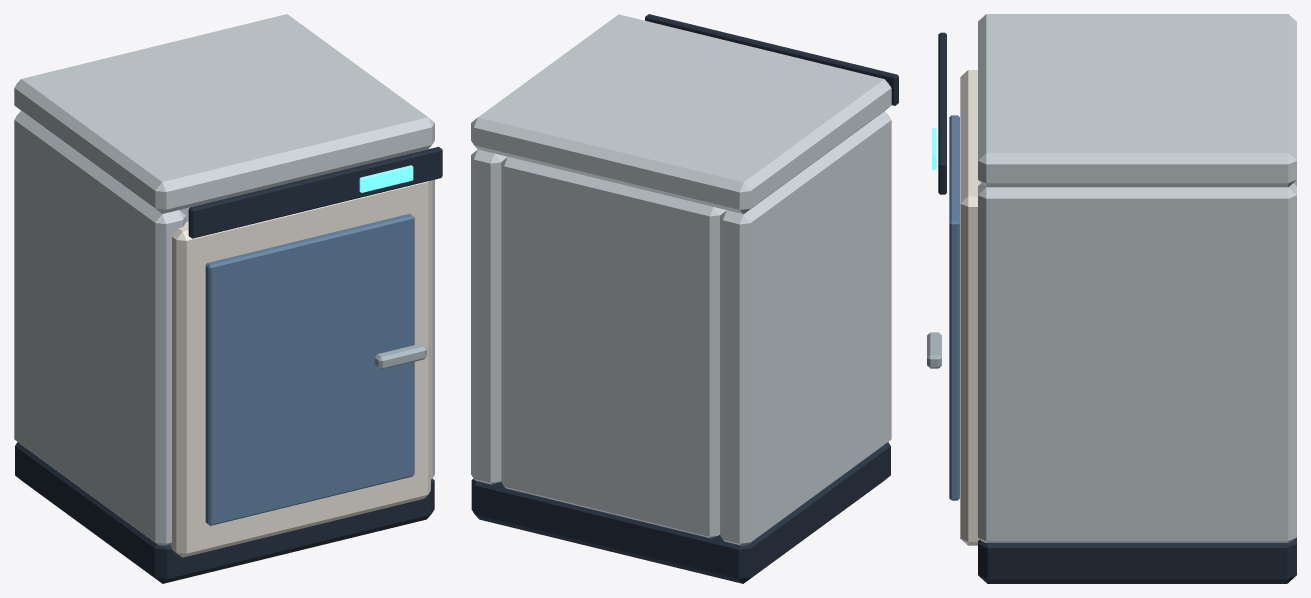
The model's file is restaurant_10.glb.
3 renders of one model, left to right at view 1: azimuth 30°, elevation 25°; view 2: azimuth 150°, elevation 25°; view 3: azimuth 270°, elevation 25°, orthographic. The views are drawn at different scales.
Visible parts, largest first — view 1: InsetPanel, Side (×2), Top, DoorPanel, Base, DishwasherTop, DigitalReadout, Handle; view 2: Back, Side (×2), Top, Base, DishwasherTop; view 3: Side, Top, Base, DoorPanel, InsetPanel, DishwasherTop, Handle.
Boxes of the visible parts, x1,y1,x2,y2 form: InsetPanel: (205, 213, 414, 525); Side (×2): (14, 111, 434, 545); Top: (14, 14, 434, 213); DoorPanel: (170, 180, 430, 557); Base: (15, 442, 434, 583); DishwasherTop: (188, 146, 442, 238); DigitalReadout: (359, 165, 413, 192); Handle: (374, 344, 426, 369); Back: (501, 157, 726, 538); Side (×2): (471, 111, 891, 545); Top: (471, 14, 891, 214); Base: (471, 442, 890, 583); DishwasherTop: (645, 14, 898, 105); Side: (978, 183, 1296, 543); Top: (978, 14, 1296, 187); Base: (978, 538, 1296, 583); DoorPanel: (960, 70, 980, 545); InsetPanel: (949, 115, 959, 500); DishwasherTop: (938, 32, 946, 194); Handle: (927, 332, 941, 368).
Size of the model in its own units: 0.64 by 0.88 by 0.684.
